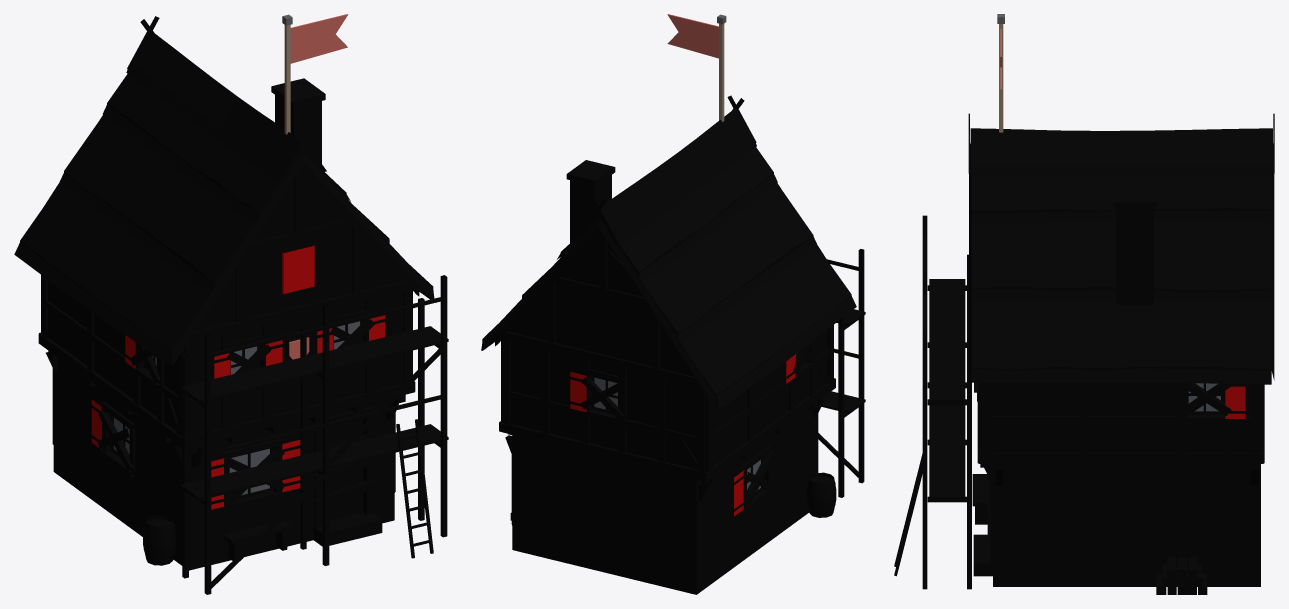
Rendered from wohnhaus_mensch_s1_g1.glb.
3 renders of one model, left to right at view 1: azimuth 30°, elevation 25°; view 2: azimuth 150°, elevation 25°; view 3: azimuth 270°, elevation 25°, orthographic. The views are drawn at different scales.
Visible parts, largest first — view 1: Haus, Dach, Geruest, Leerstand, Fahne, Scheiben; view 2: Haus, Dach, Geruest, Fahne, Leerstand; view 3: Dach, Haus, Geruest, Leerstand, Fahne.
Boxes of the visible parts, x1,y1,x2,y2 form: Haus: (38,78,415,570); Dach: (14,16,434,365); Geruest: (180,275,448,594); Leerstand: (97,319,375,508); Fahne: (282,14,348,134); Scheiben: (114,321,360,494); Haus: (499,160,836,594); Dach: (481,95,856,407); Geruest: (818,249,865,497); Fahne: (667,14,726,121); Leerstand: (580,340,817,505); Dach: (968,113,1274,384); Haus: (972,186,1264,594); Geruest: (894,215,971,589); Leerstand: (974,382,1231,537); Fahne: (997,14,1004,132).
Bounding box in the file's own units: 5.86 × 10.74 × 7.1.
